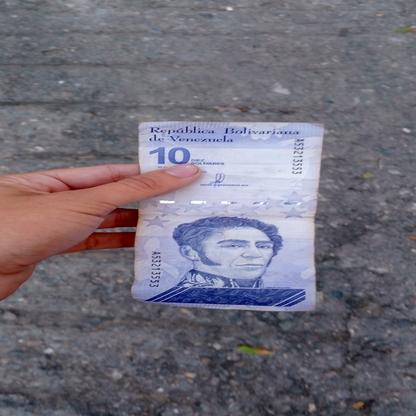ten-front-vef: (130, 123, 324, 313)
